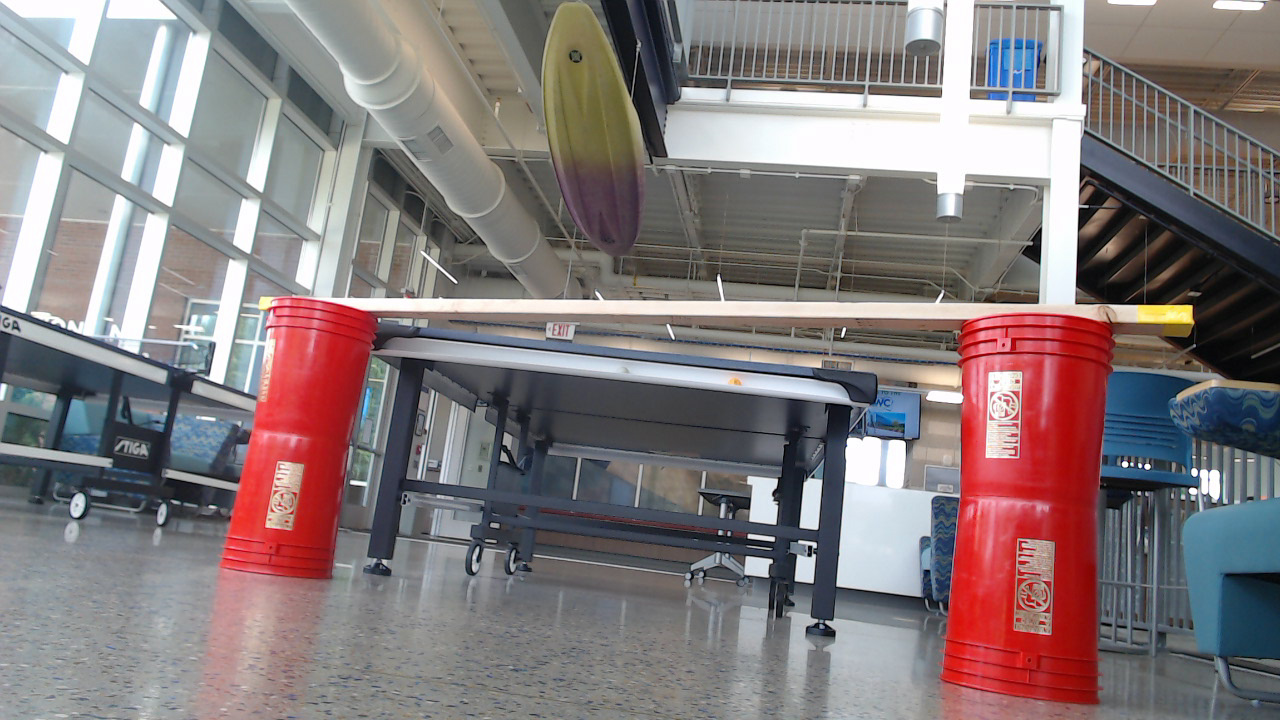blue_bucket: (221, 297, 1116, 718)
